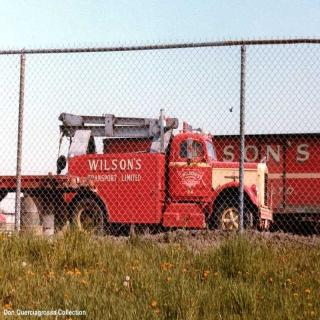Towing_truck: (1, 109, 274, 239)
